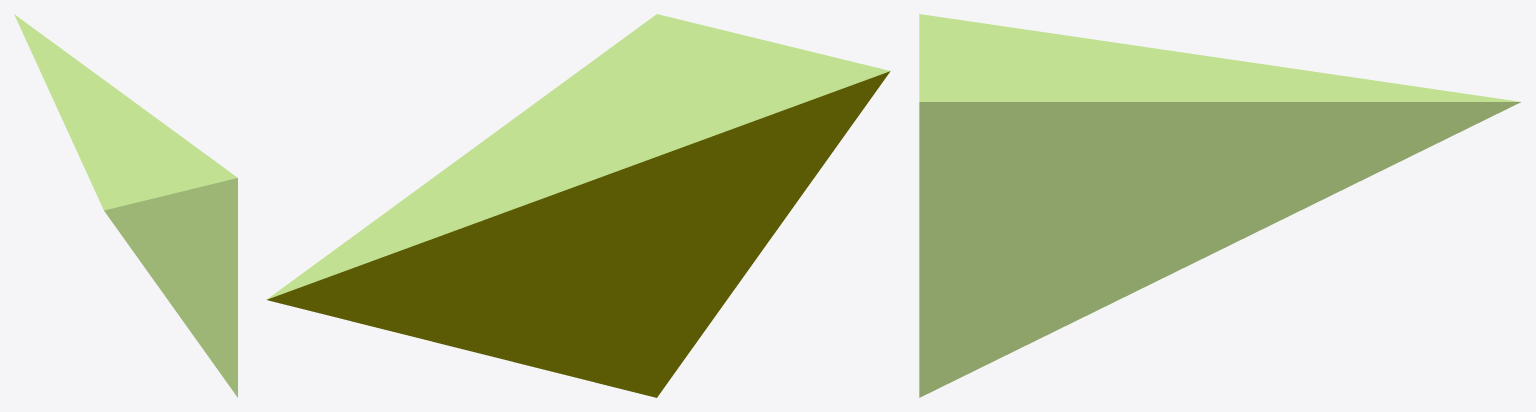
Rendered from cbShard6.fbx.
3 renders of one model, left to right at view 1: azimuth 30°, elevation 25°; view 2: azimuth 150°, elevation 25°; view 3: azimuth 270°, elevation 25°, orthographic. The views are drawn at different scales.
Parts seen in each view (by area): view 1: shard25; view 2: shard25; view 3: shard25.
Part boxes in pixels (x1,y1,x2,y2): shard25: [14, 14, 237, 397]; shard25: [266, 14, 890, 397]; shard25: [919, 14, 1520, 397].
Size of the model in its own units: 0.00808 by 0.0127 by 0.0234.
2 materials, 1 textured.
